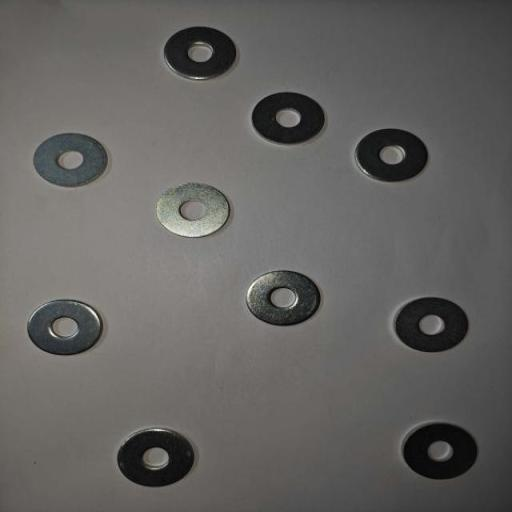washer: (117, 426, 195, 488), (401, 421, 478, 481), (32, 131, 109, 189), (26, 299, 104, 356), (156, 181, 231, 238), (394, 297, 470, 353), (246, 270, 320, 326), (164, 26, 238, 81), (354, 128, 429, 182), (252, 91, 326, 145)
